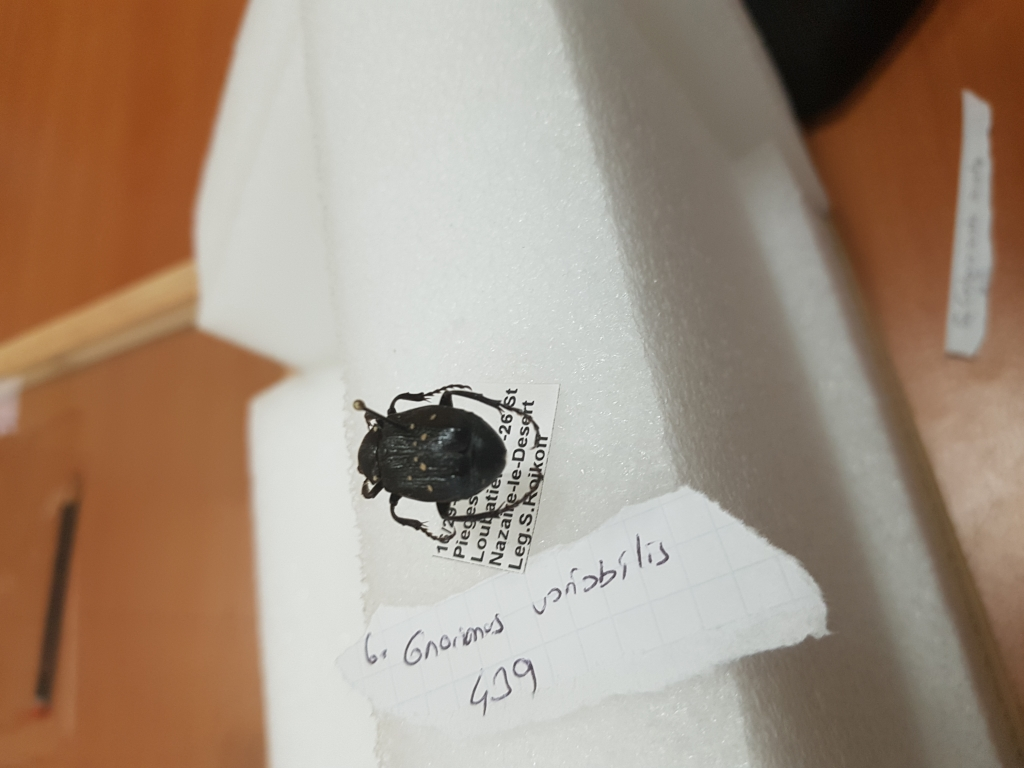Gnorimus_variabilis: (341, 377, 539, 547)
